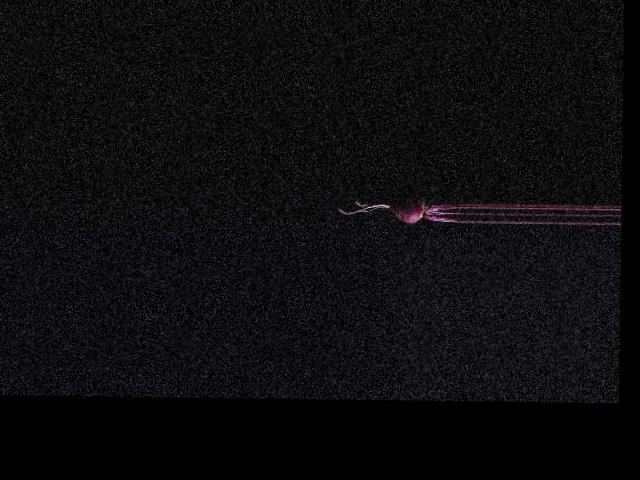beet: (338, 190, 460, 225)
